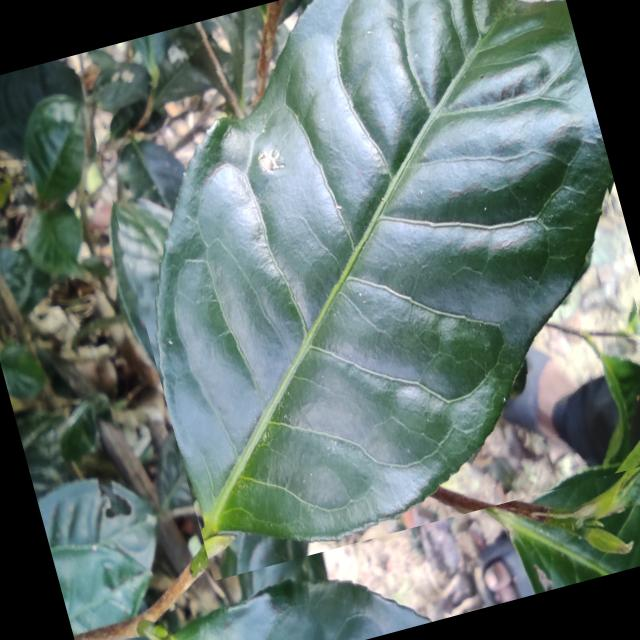Category D(7+ days, Not for Tea): (73, 0, 640, 580)
